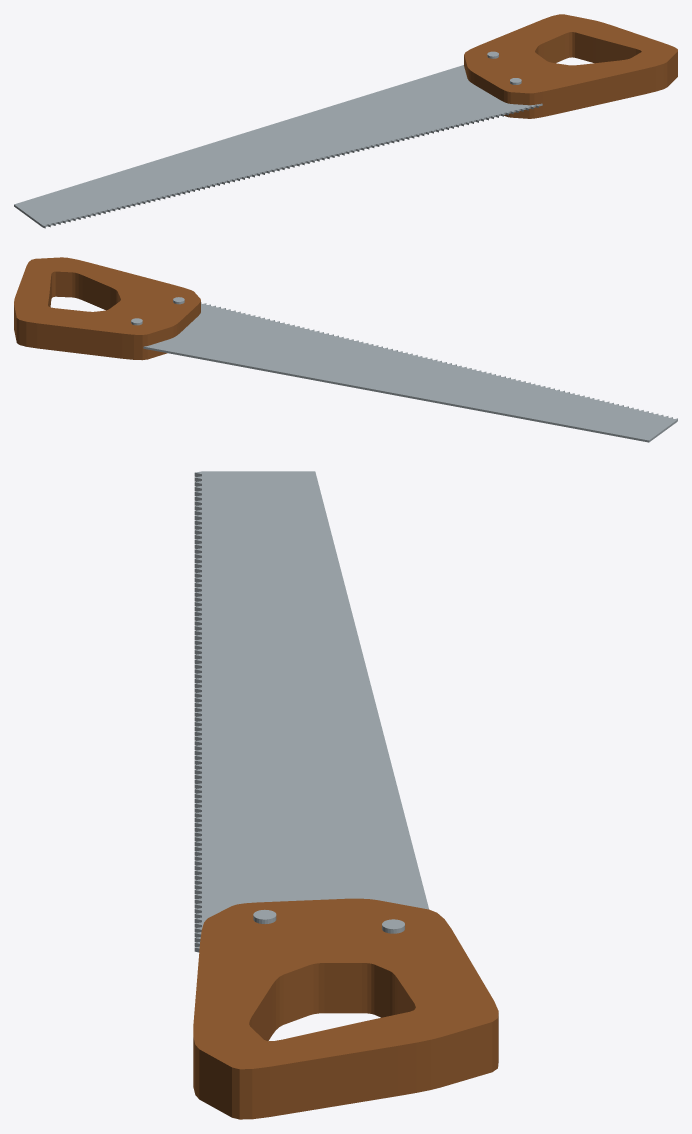
3 renders of one model, top to bottom at view 1: azimuth 30°, elevation 25°; view 2: azimuth 150°, elevation 25°; view 3: azimuth 270°, elevation 25°, orthographic. The views are drawn at different scales.
Parts seen in each view (by area): view 1: NEW309_PanelHandsaw_LOD1; view 2: NEW309_PanelHandsaw_LOD1; view 3: NEW309_PanelHandsaw_LOD1.
Part boxes in pixels (<box>): NEW309_PanelHandsaw_LOD1: <box>14,14,677,228</box>; NEW309_PanelHandsaw_LOD1: <box>14,257,677,442</box>; NEW309_PanelHandsaw_LOD1: <box>193,471,498,1119</box>.
Size of the model in its own units: 0.5827 by 0.024 by 0.1211.
